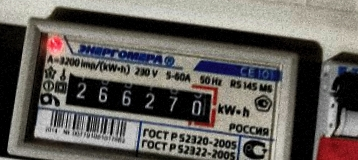0: (188, 96, 202, 118)
2: (72, 79, 89, 101), (141, 90, 156, 112)
6: (95, 84, 109, 105), (119, 87, 133, 107)
7: (164, 93, 179, 114)
screen: (50, 59, 229, 138)
